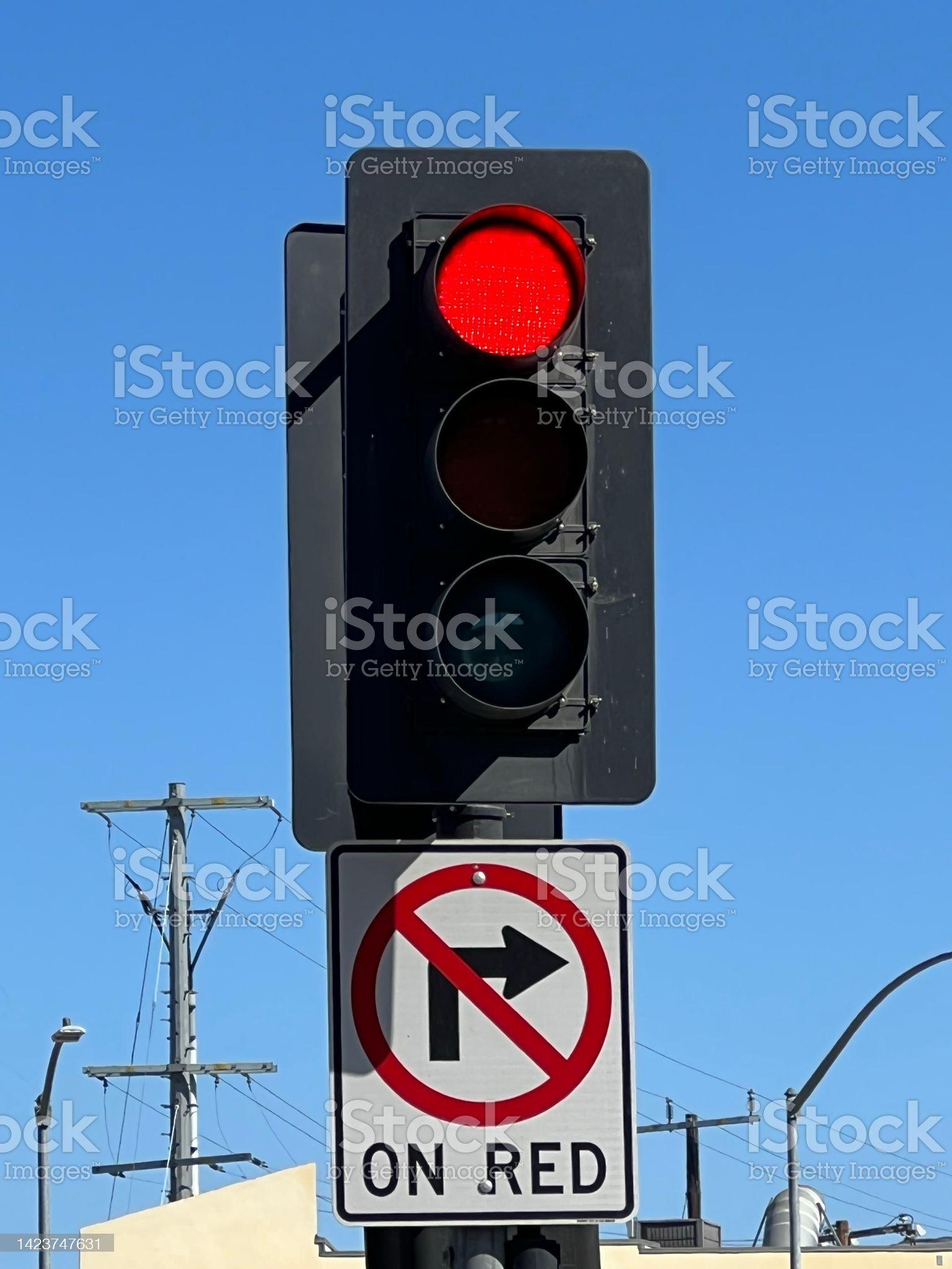red: (313, 99, 676, 830)
